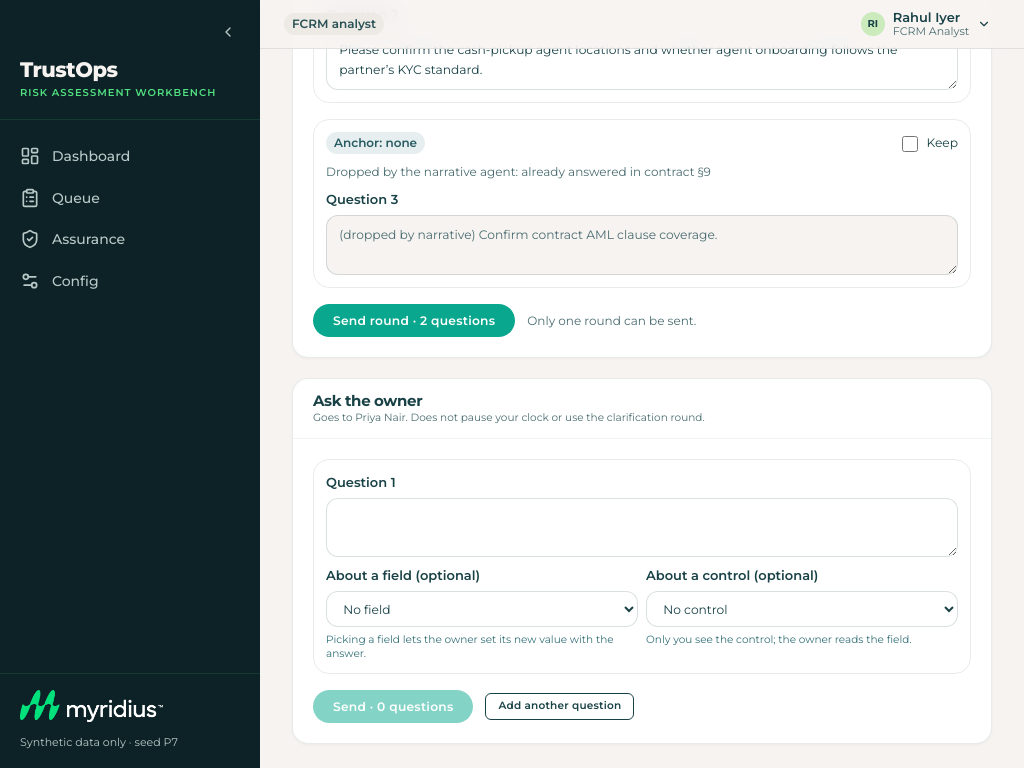
Scenario: the analyst asks the owner at any time (ADR-73) › refuses a question that names a reserved word and says which
The width and height of the screenshot is (1024, 768).
(page scrolled)
Type "What band would you expect?" into the text box labelled "Question 1" at {"x": 642, "y": 527}, box [326,498,958,557]
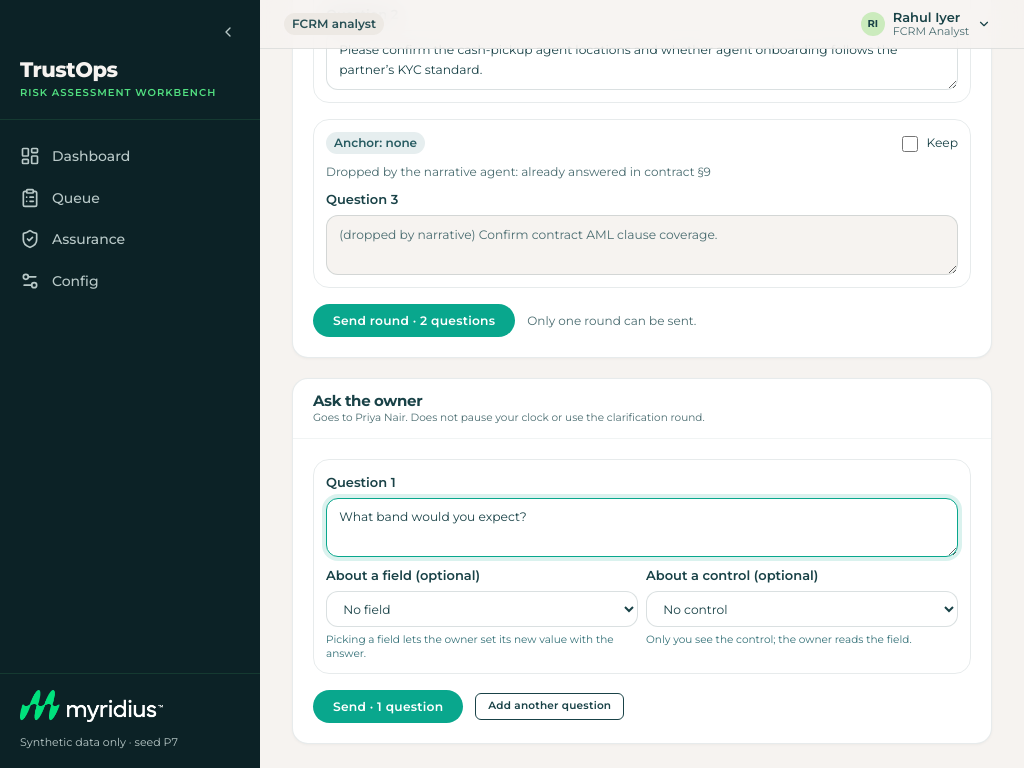
Click the button "Send · 1 question" at {"x": 388, "y": 706}, box [313,690,463,723]
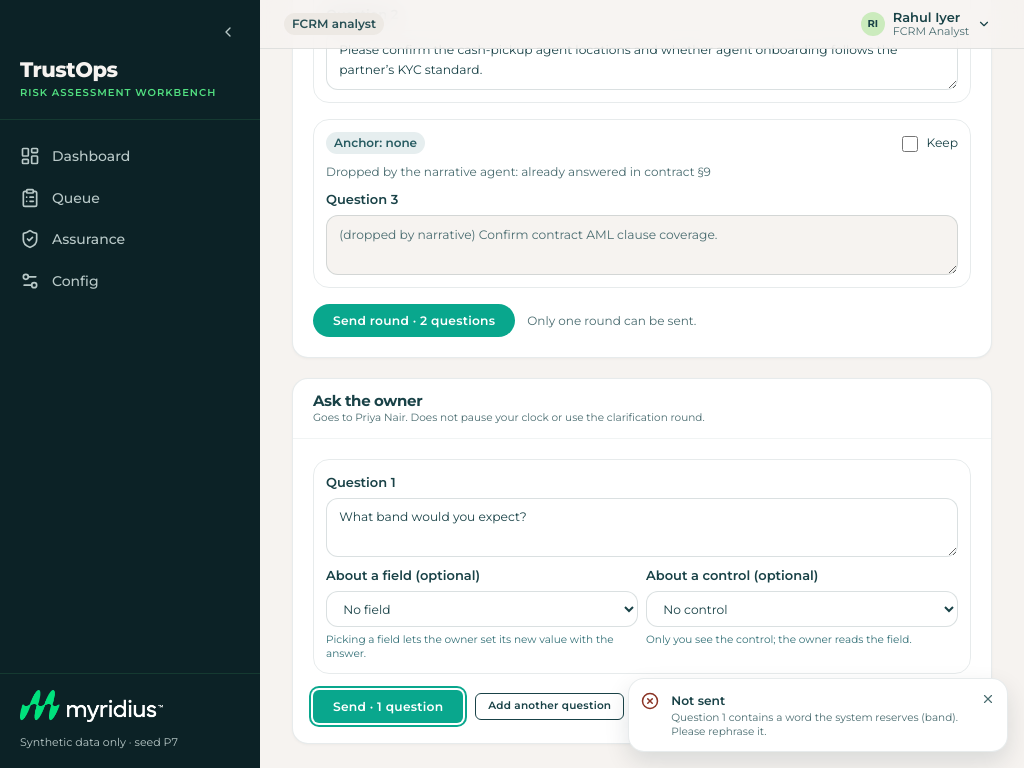
expect the text "reserves (band)" is shown: met, box [671,711,958,738]
